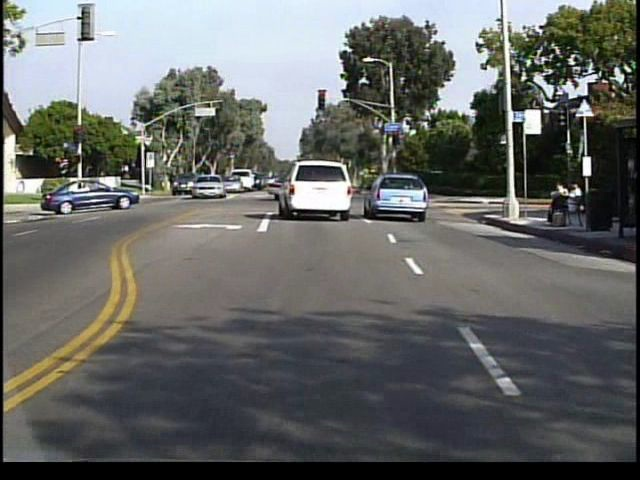person: (545, 178, 570, 227), (565, 179, 583, 226)
